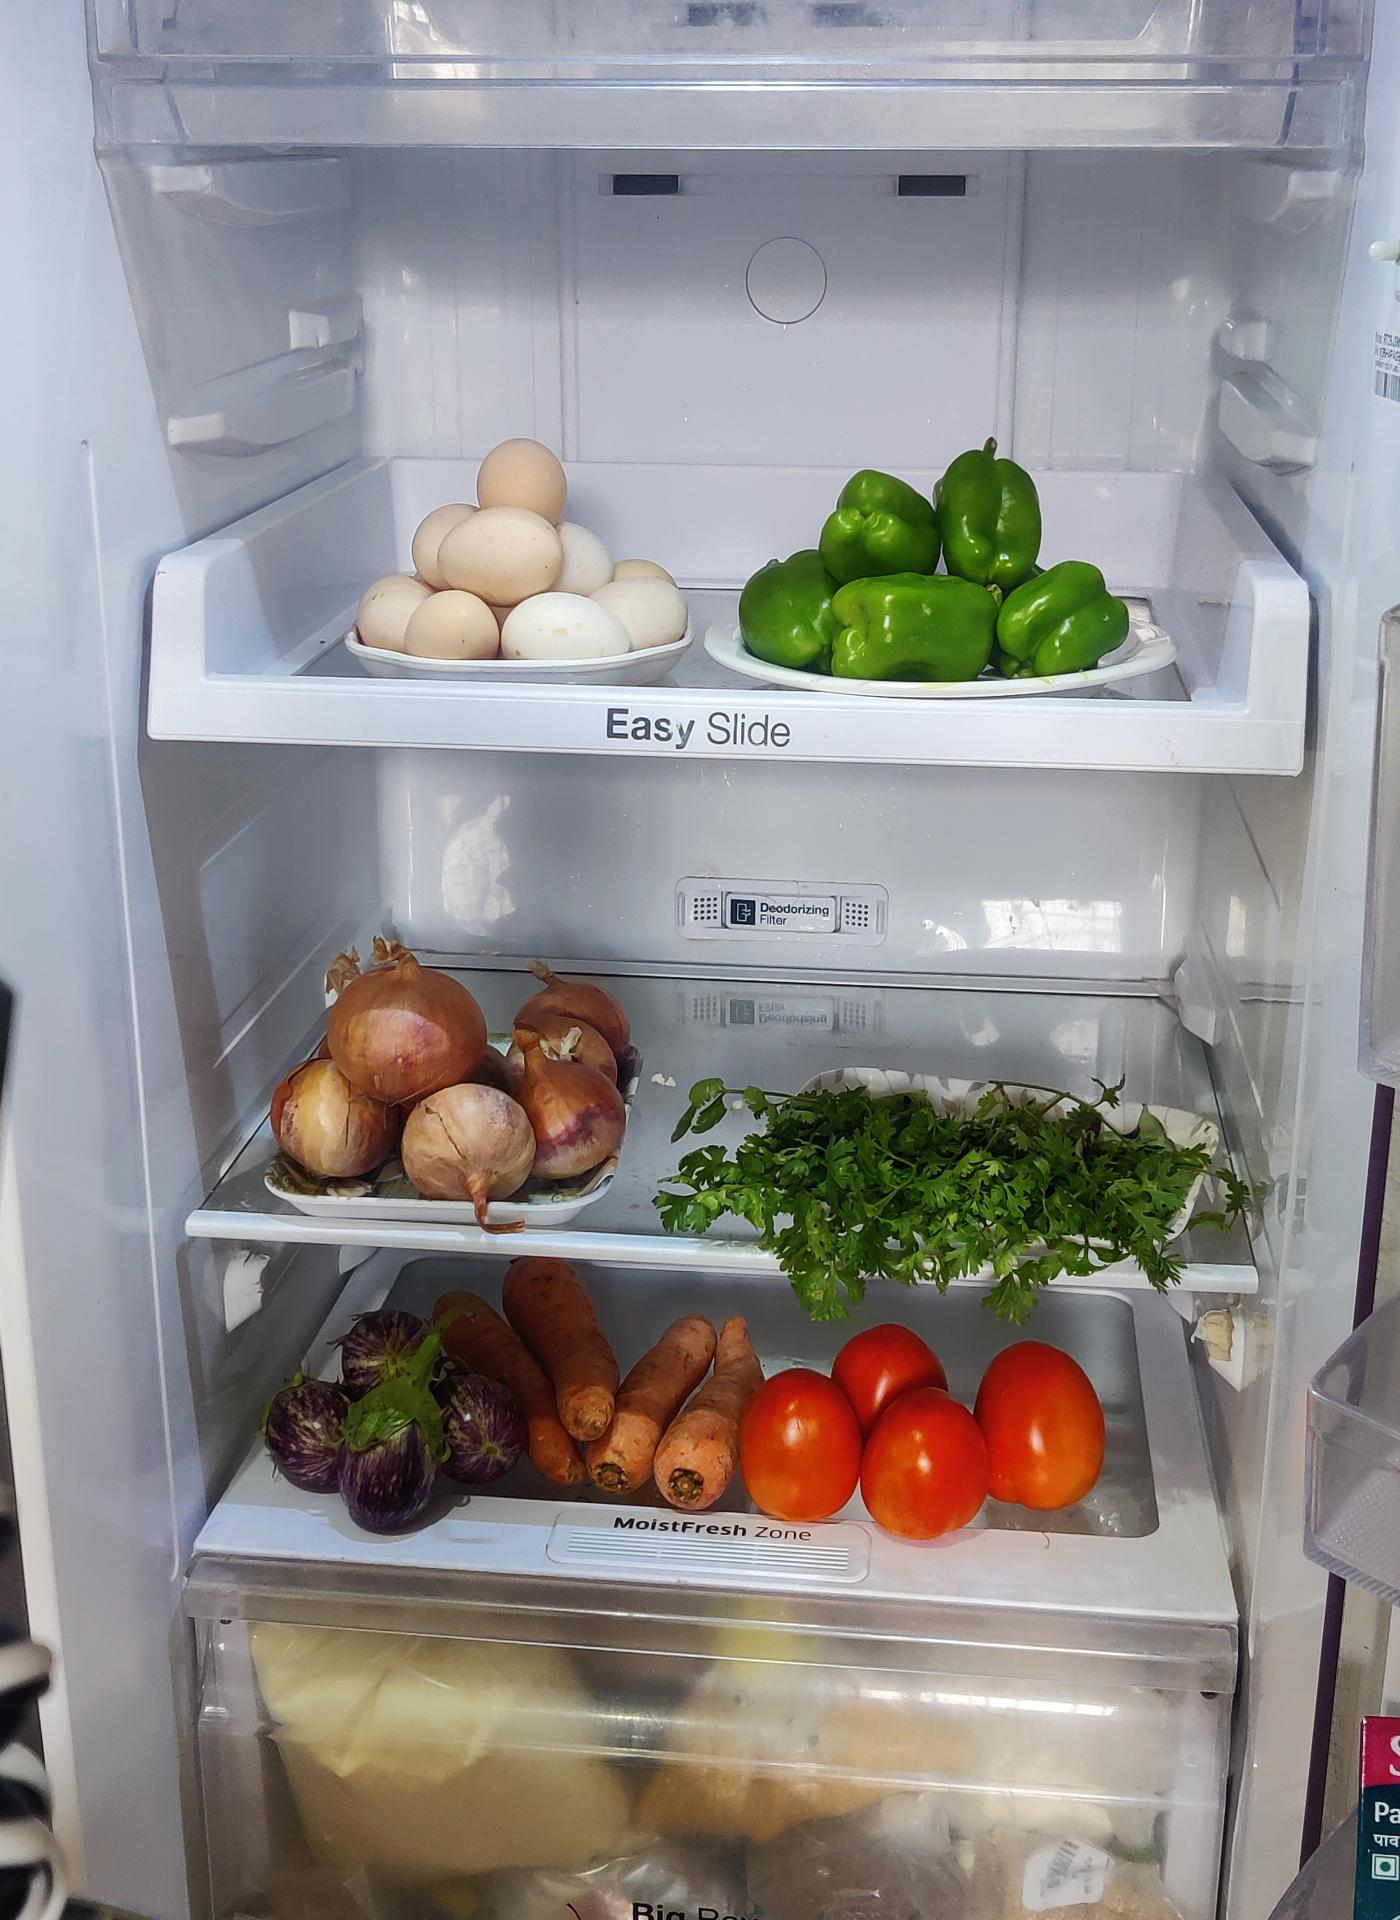brinjal: (274, 1264, 523, 1525)
capsicum: (738, 450, 1147, 686)
carrots: (514, 1273, 737, 1531)
coriander: (677, 1085, 1208, 1316)
egg: (346, 431, 684, 665)
onion: (274, 929, 643, 1199)
tomato: (745, 1330, 1114, 1543)
